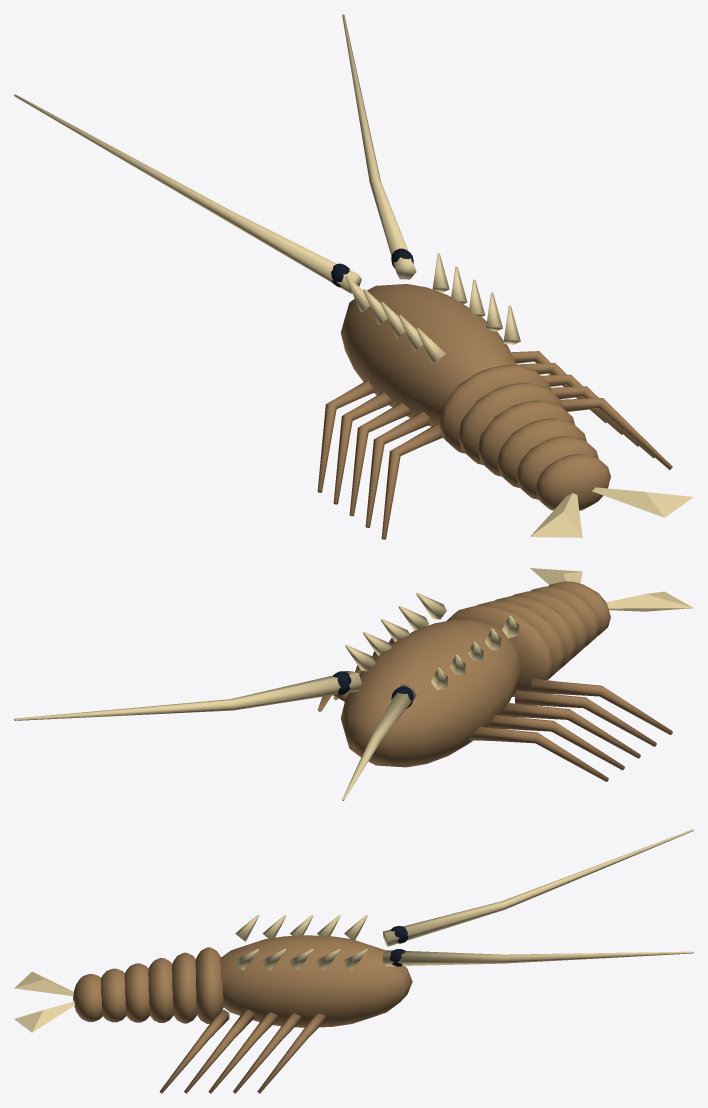
Rendered from spiny-lobster.glb.
The picture shows the model from 3 angles, top to bottom: view 1: azimuth 30°, elevation 25°; view 2: azimuth 150°, elevation 25°; view 3: azimuth 270°, elevation 25°; orthographic projection. The views are drawn at different scales.
Parts seen in each view (by area): view 1: spiny-lobster; view 2: spiny-lobster; view 3: spiny-lobster.
Part boxes in pixels (x1=…): spiny-lobster: x1=14, y1=14, x2=693, y2=539; spiny-lobster: x1=14, y1=568, x2=692, y2=800; spiny-lobster: x1=14, y1=829, x2=693, y2=1093.
Bounding box in the file's own units: 0.3218 × 0.1823 × 0.7504.
